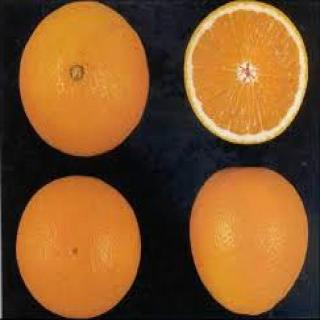orange: (166, 0, 304, 195), (157, 160, 307, 320), (12, 0, 148, 172), (13, 160, 155, 320)
